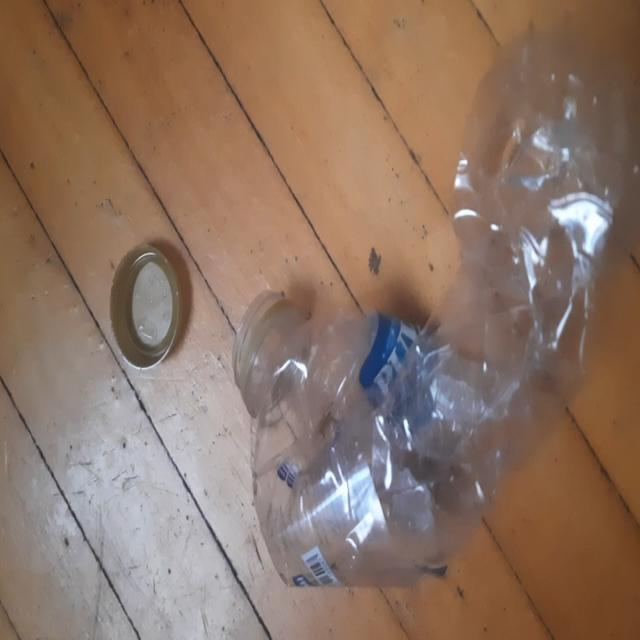Plastic: (242, 21, 634, 588)
